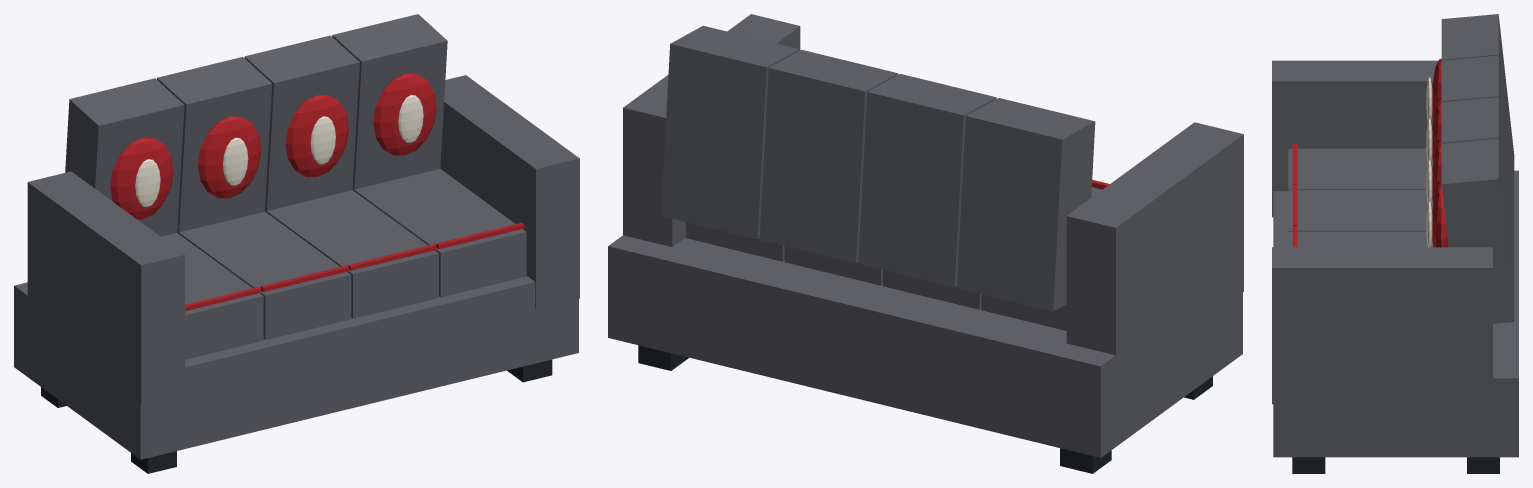
Rendered from good.glb.
3 renders of one model, left to right at view 1: azimuth 30°, elevation 25°; view 2: azimuth 150°, elevation 25°; view 3: azimuth 270°, elevation 25°, orthographic. The views are drawn at different scales.
Visible parts, largest first — view 1: Armrest, Decorative cushion, Ghost motif, Sofa foot; view 2: Armrest, Sofa foot; view 3: Armrest, Decorative cushion, Sofa foot, Ghost motif.
Part boxes in pixels (x1,y1,x2,y2): Armrest: (14, 14, 579, 459); Decorative cushion: (110, 73, 524, 310); Ghost motif: (135, 95, 423, 207); Sofa foot: (41, 359, 552, 473); Armrest: (608, 14, 1243, 457); Sofa foot: (638, 345, 1212, 473); Armrest: (1272, 14, 1518, 457); Decorative cushion: (1292, 58, 1448, 247); Sofa foot: (1292, 457, 1499, 473); Ghost motif: (1426, 77, 1432, 247).
Size of the model in its own units: 1 by 0.6328 by 0.5028.
